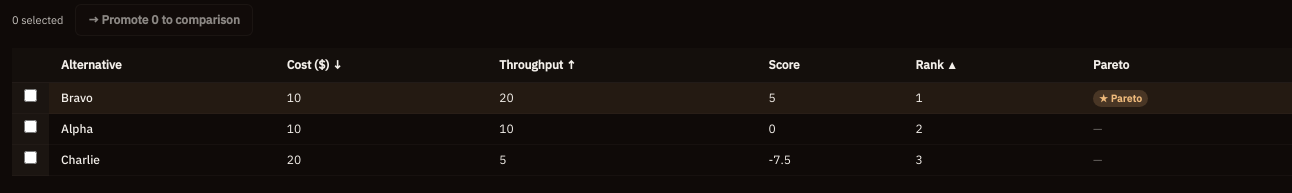
Test: <TradeStudyTableViewer> — interaction › row checkbox selection feeds the promote toolbar
The width and height of the screenshot is (1292, 193).
Check: the button with test id "promote-to-compare-button" is disabled, box [75, 4, 253, 36]
Click the checkbox with test id "select-A". click: (30, 126)
box: [24, 120, 37, 133]
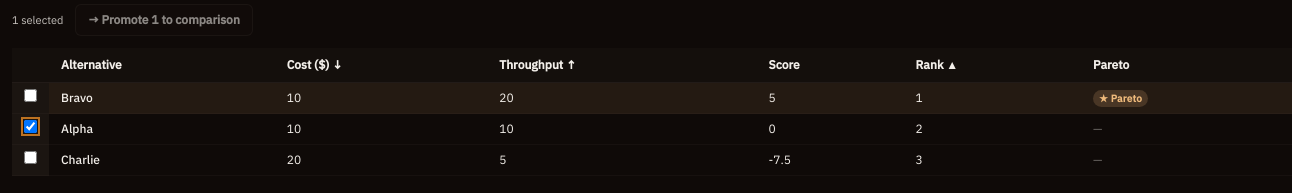
Click the checkbox with test id "select-B". click: (30, 96)
box: [24, 89, 37, 102]
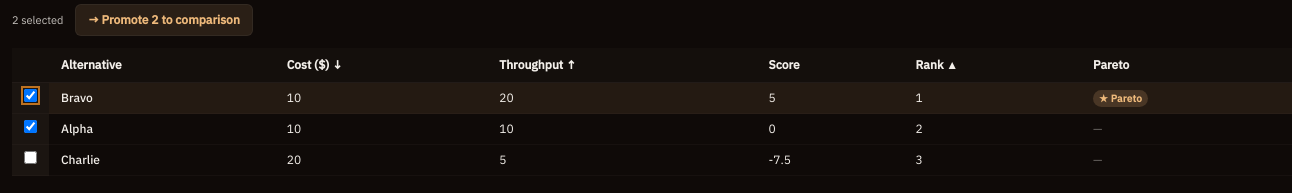
Check: the button with test id "promote-to-compare-button" is enabled, box [75, 4, 253, 36]
Check: the text with test id "trade-study-selected-count" shows "2", box [12, 13, 19, 27]
